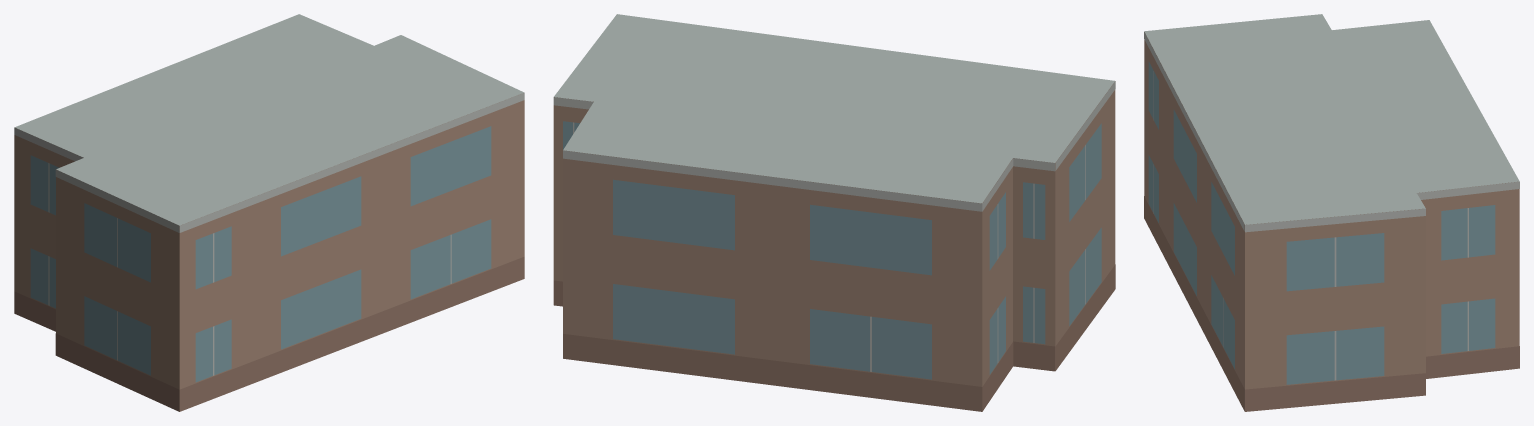
File: survey-upis-32905971.glb
The picture shows the model from 3 angles, left to right: view 1: azimuth 30°, elevation 25°; view 2: azimuth 150°, elevation 25°; view 3: azimuth 270°, elevation 25°; orthographic projection. The views are drawn at different scales.
Visible parts, largest first — view 1: survey-upis-32905971.tmp; view 2: survey-upis-32905971.tmp; view 3: survey-upis-32905971.tmp.
Part boxes in pixels (x1=…): survey-upis-32905971.tmp: x1=14, y1=14, x2=524, y2=411; survey-upis-32905971.tmp: x1=553, y1=14, x2=1115, y2=411; survey-upis-32905971.tmp: x1=1144, y1=14, x2=1519, y2=411.
Bounding box in the file's own units: 14.76 × 6.1 × 11.11.
